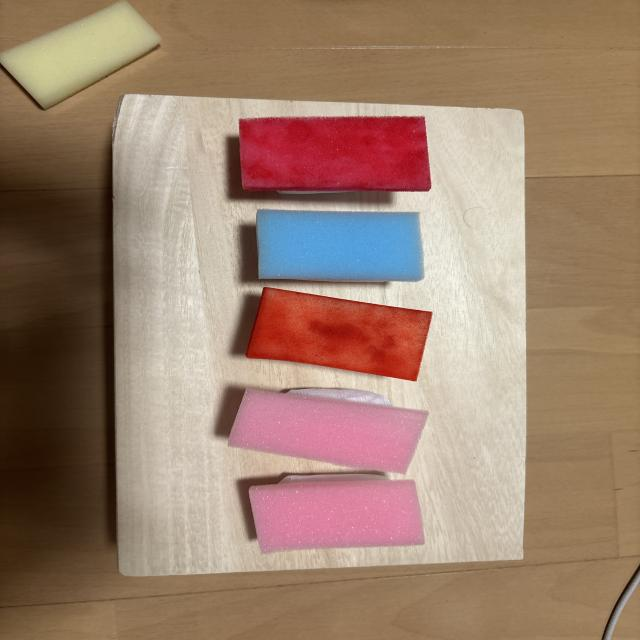ika: (257, 210, 424, 282)
maguro: (239, 116, 431, 191)
salmon: (246, 287, 432, 381)
tai: (228, 388, 428, 473), (249, 474, 424, 553)
